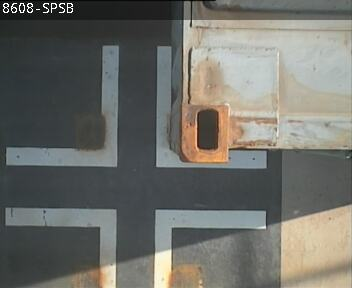groundmarker_1: (6, 45, 262, 169), (5, 209, 266, 288)
